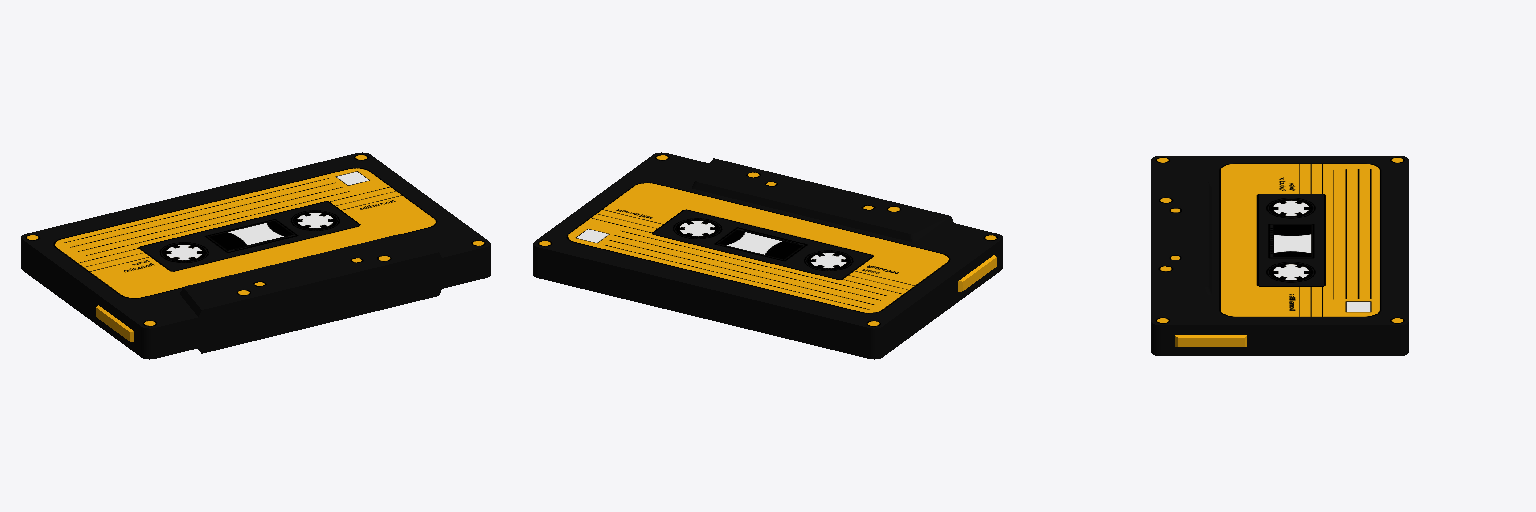
3 views of the same model, side by side, from view 1: azimuth 30°, elevation 25°; view 2: azimuth 150°, elevation 25°; view 3: azimuth 270°, elevation 25° (orthographic).
Parts seen in each view (by area): view 1: Cube.006_Cube.007; view 2: Cube.006_Cube.007; view 3: Cube.006_Cube.007.
Part boxes in pixels (bbox=[...]): Cube.006_Cube.007: bbox=[21, 152, 490, 359]; Cube.006_Cube.007: bbox=[533, 152, 1002, 359]; Cube.006_Cube.007: bbox=[1151, 156, 1408, 355].
Bounding box in the file's own units: 0.102 × 0.012 × 0.064.
Materials: 1 (1 with a texture image).